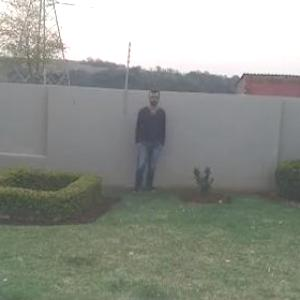follow: (133, 85, 167, 197)
